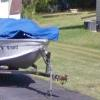Boat: (2, 12, 61, 75)
